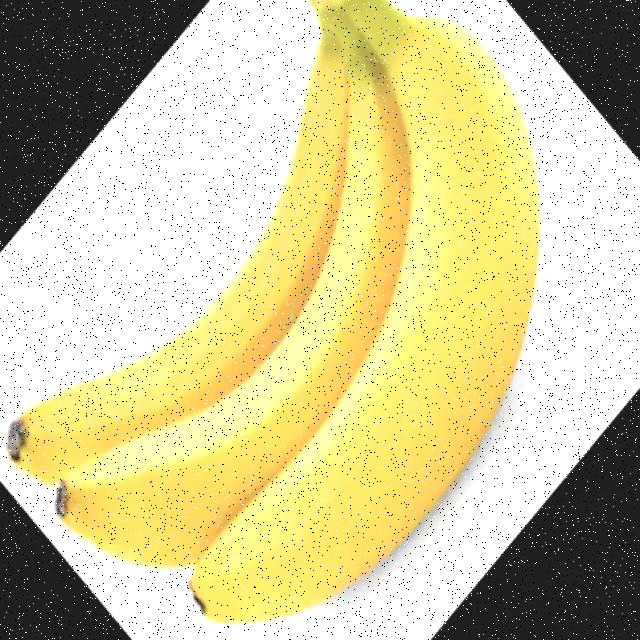god quality banana: (8, 2, 540, 622)
